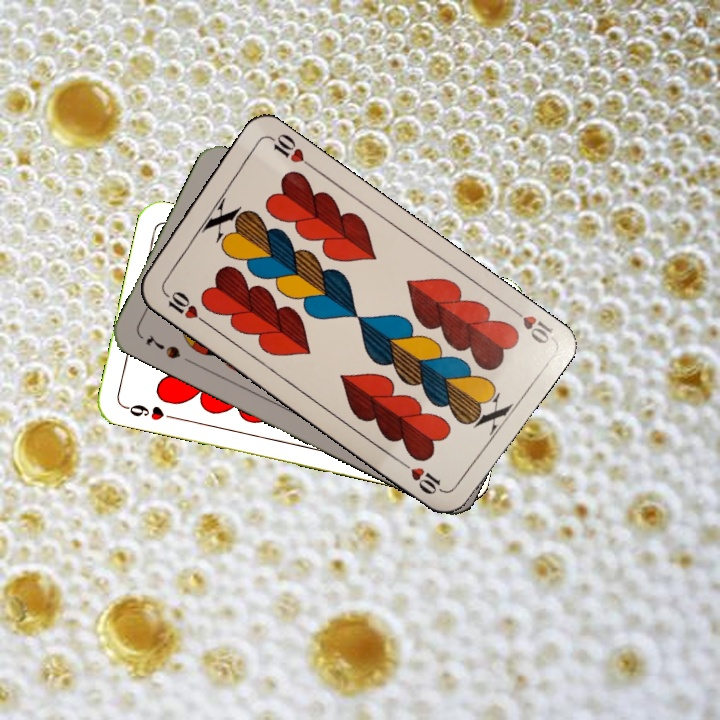H10: (504, 301, 556, 348), (158, 285, 209, 326)
H9: (120, 400, 179, 423)
S7: (142, 330, 183, 362)
